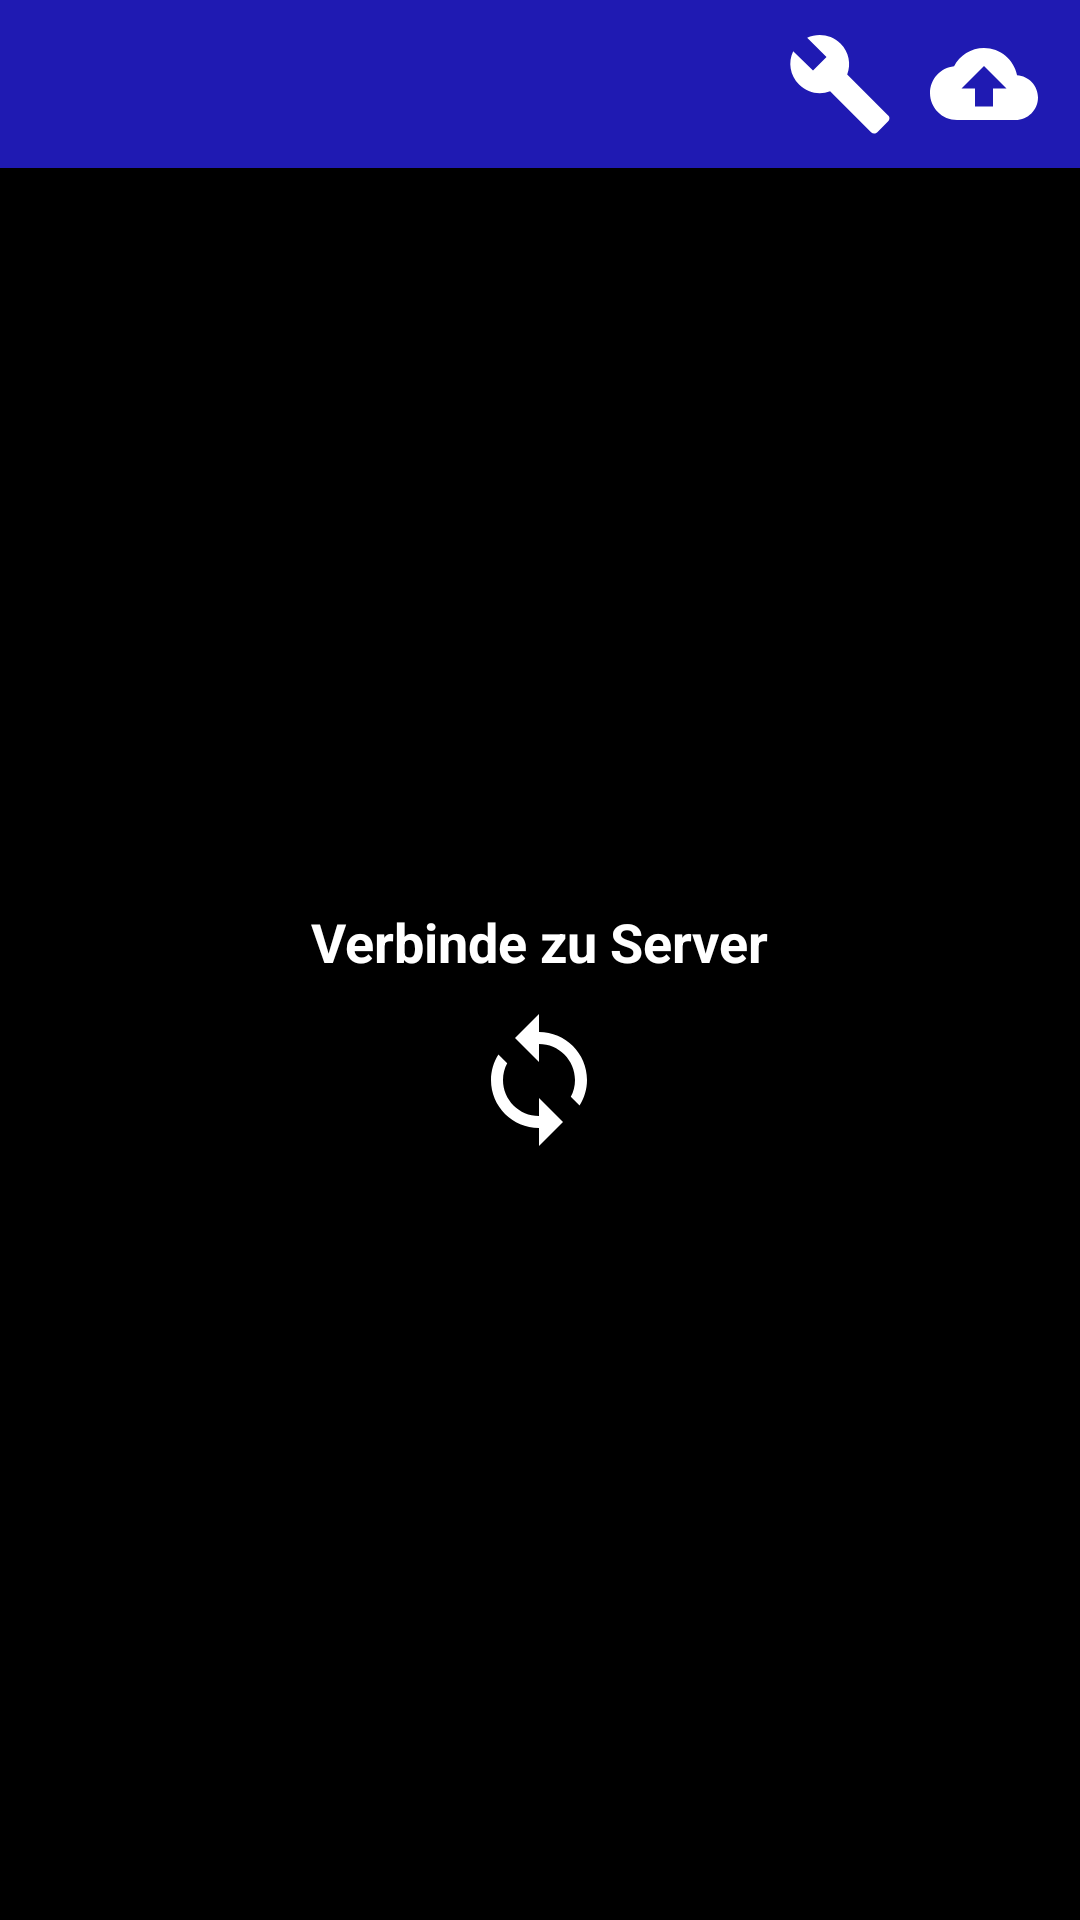

Icon click points for this 1080 x 1920 phone screenshot, format (x=x, y=y):
build: (x=840, y=84)
sync: (x=539, y=1080)
